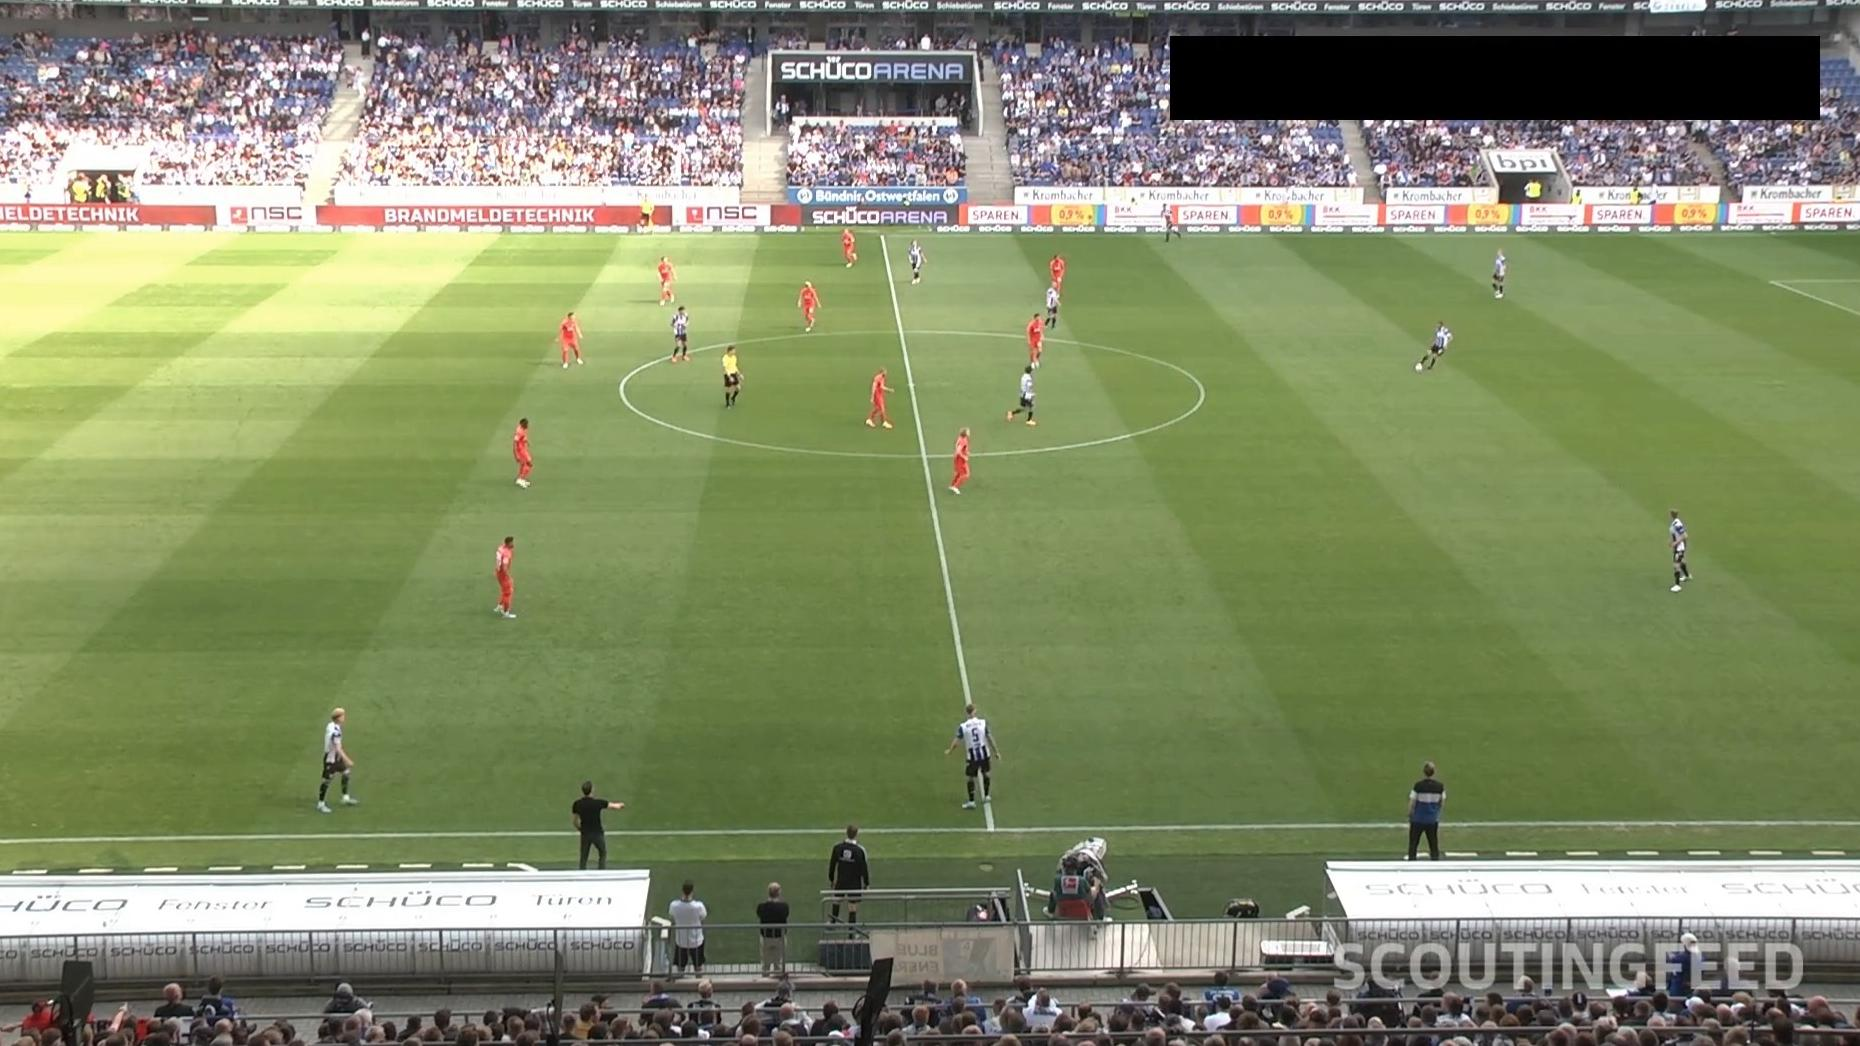ball: (1414, 361, 1424, 373)
